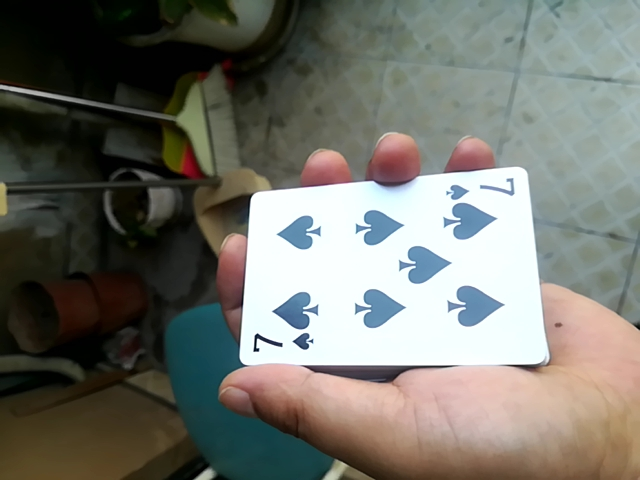ht 7: (223, 174, 549, 372)
